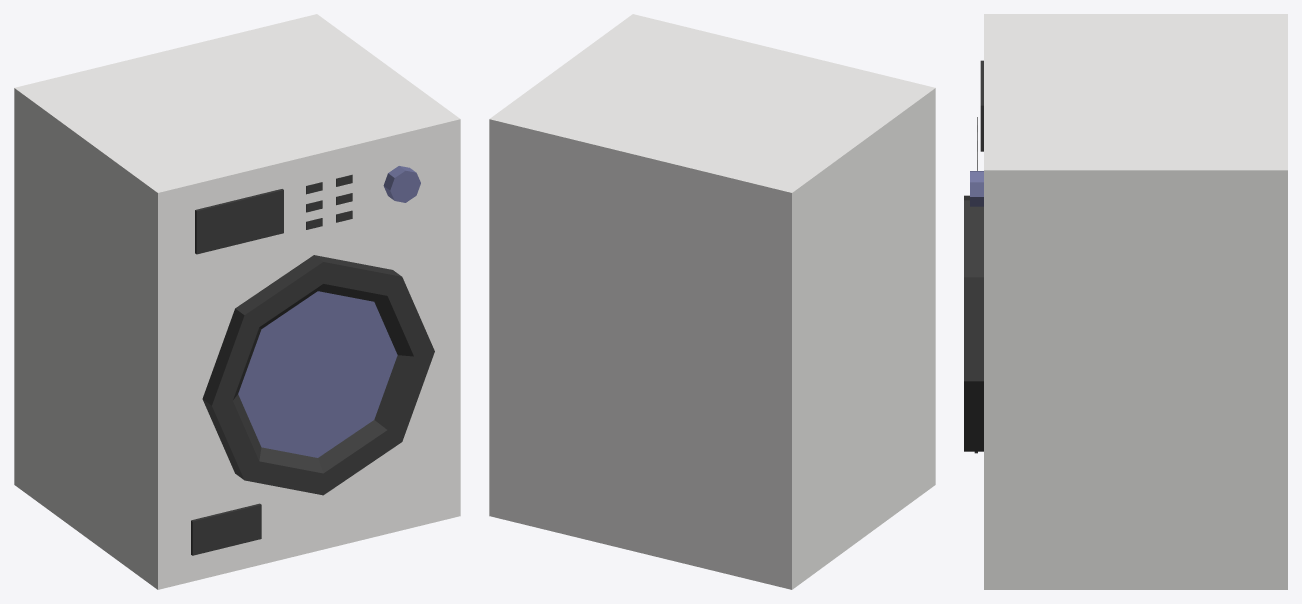
File: Washer_1.fbx
The picture shows the model from 3 angles, left to right: view 1: azimuth 30°, elevation 25°; view 2: azimuth 150°, elevation 25°; view 3: azimuth 270°, elevation 25°; orthographic projection. The views are drawn at different scales.
Parts seen in each view (by area): view 1: Washer_1; view 2: Washer_1; view 3: Washer_1.
Boxes of the visible parts, x1=… form: Washer_1: x1=14, y1=14, x2=460, y2=589; Washer_1: x1=489, y1=14, x2=935, y2=589; Washer_1: x1=964, y1=14, x2=1287, y2=589.
Bounding box in the file's own units: 112 × 97.99 × 140.
